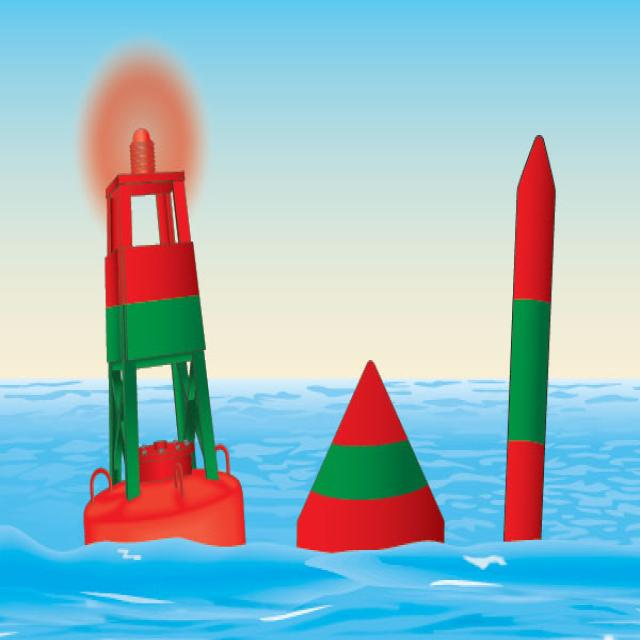2.1 preferred channel to starboard -Region A-: (69, 108, 255, 566), (286, 321, 466, 573), (497, 119, 566, 571)
